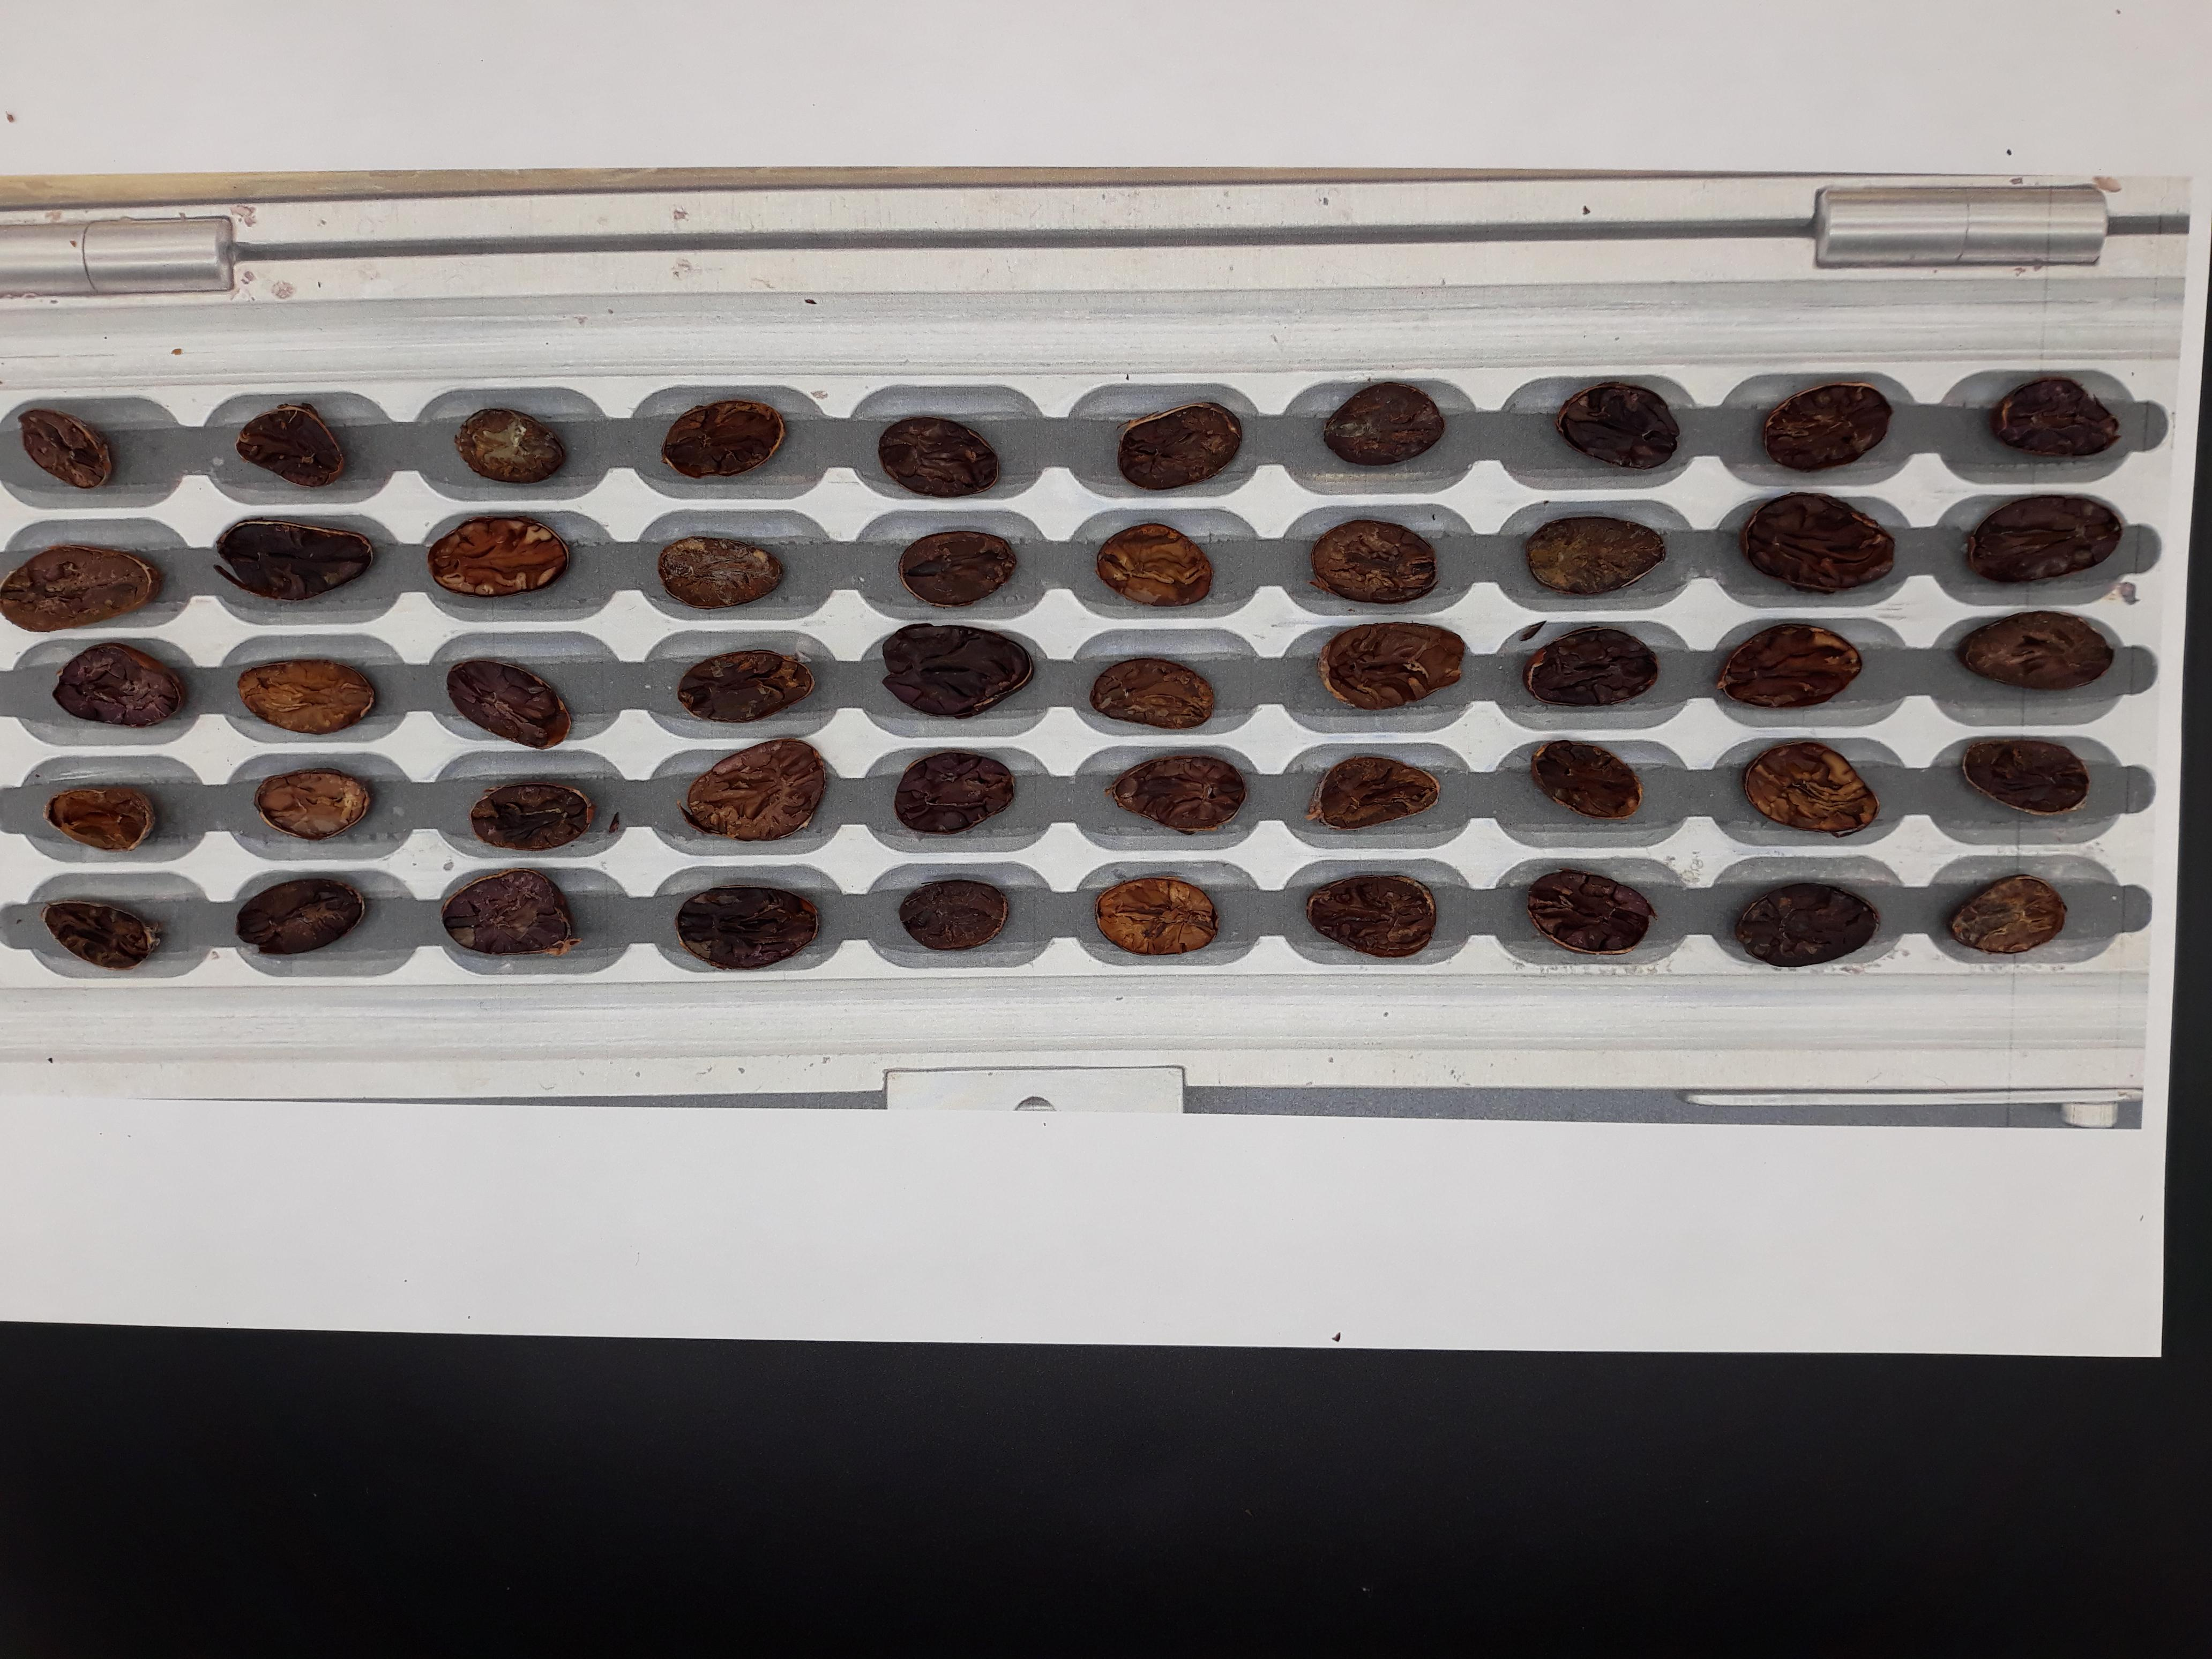Brown - G1: (1975, 1075, 2059, 1133), (1963, 1143, 2043, 1192), (1325, 1087, 1402, 1138), (1132, 1222, 1198, 1265)
Brown - G2: (1451, 1201, 1529, 1258), (1764, 1141, 1844, 1194), (1975, 1201, 2050, 1255), (1984, 1023, 2060, 1073), (1759, 1267, 1832, 1316), (1662, 1206, 1737, 1253), (1867, 1201, 1939, 1249), (1759, 1209, 1834, 1255), (1440, 1032, 1510, 1079), (1656, 1094, 1723, 1141)
Brown - G3: (2081, 1136, 2172, 1185), (1115, 1103, 1195, 1155), (1761, 1089, 1832, 1140), (1665, 1032, 1735, 1082), (1651, 1157, 1724, 1204), (1655, 1267, 1724, 1314), (1237, 1213, 1305, 1260), (1230, 1162, 1305, 1204), (1120, 1033, 1177, 1086), (1557, 1096, 1623, 1141)
Insect-damaged: (1867, 1089, 1946, 1136)
Mouldy: (1766, 1023, 1838, 1072), (2078, 1265, 2144, 1314), (1437, 1098, 1507, 1143), (1338, 1035, 1402, 1082), (1559, 1269, 1620, 1314)
Partly Purple - G1: (1547, 1143, 1635, 1197), (1871, 1263, 1940, 1316)
Partly Purple - G2: (2087, 1077, 2172, 1131), (1217, 1089, 1303, 1138), (1446, 1272, 1526, 1321), (1867, 1143, 1942, 1192), (1557, 1206, 1623, 1256), (1345, 1220, 1416, 1262)
Partly Purple - G3: (1331, 1159, 1402, 1213)
Total Purple - G2: (2099, 1019, 2172, 1066)
Total Purple - G3: (1331, 1263, 1406, 1316), (1136, 1154, 1214, 1202)
Very Dark Brown - G1: (1134, 1276, 1200, 1324)
Very Dark Brown - G2: (1224, 1030, 1292, 1084), (1883, 1023, 1952, 1075), (1548, 1035, 1616, 1087), (2083, 1197, 2156, 1244)
Very Dark Brown - G3: (1973, 1270, 2050, 1319), (1228, 1267, 1303, 1316), (1446, 1154, 1522, 1199)
